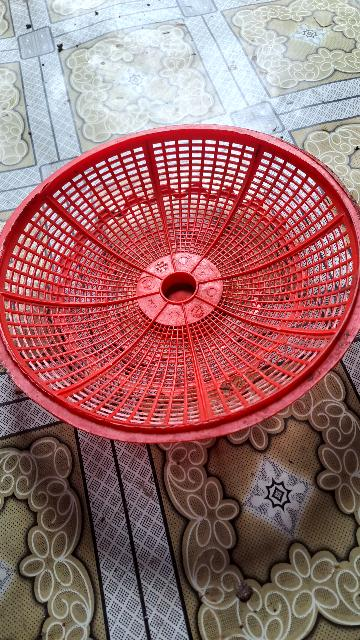hardplastic: (11, 126, 358, 439)
